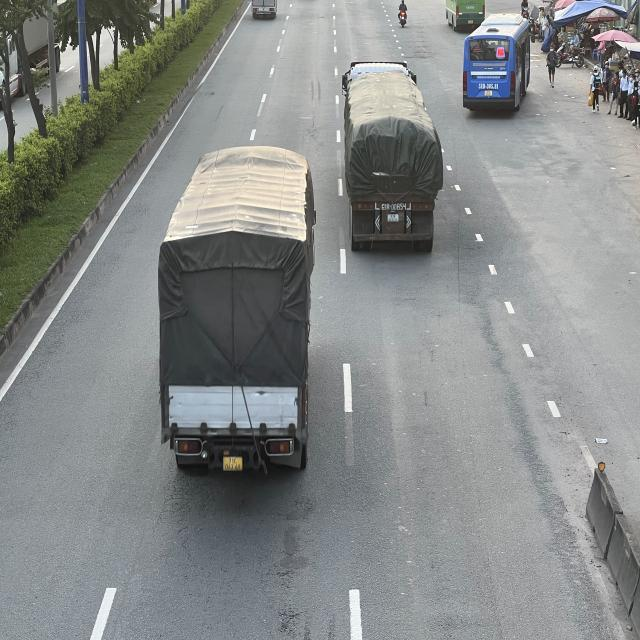coach: (464, 12, 532, 111), (443, 0, 484, 30)
container: (345, 59, 448, 252)
truck: (161, 142, 322, 474)
